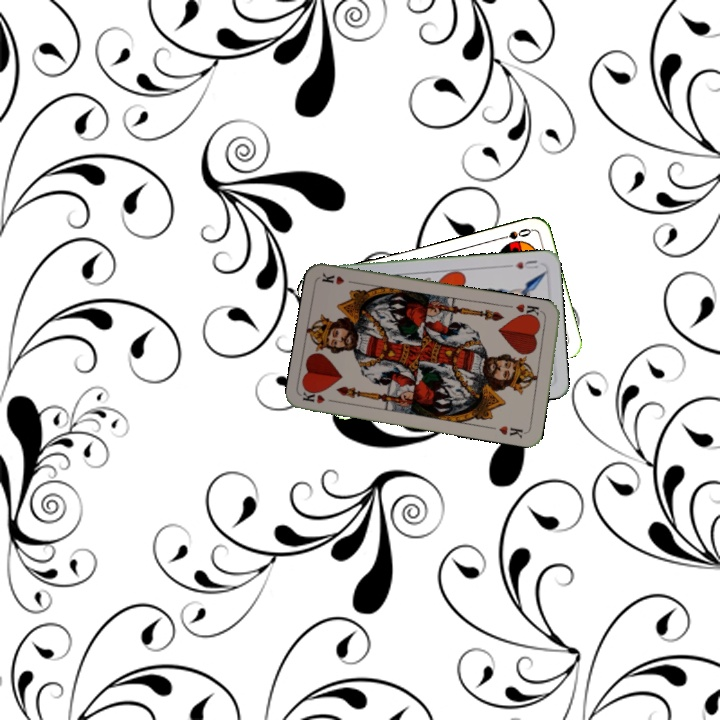HK: (299, 385, 340, 406), (512, 300, 546, 322)
HU: (511, 256, 541, 271)
SO: (494, 224, 534, 242)
